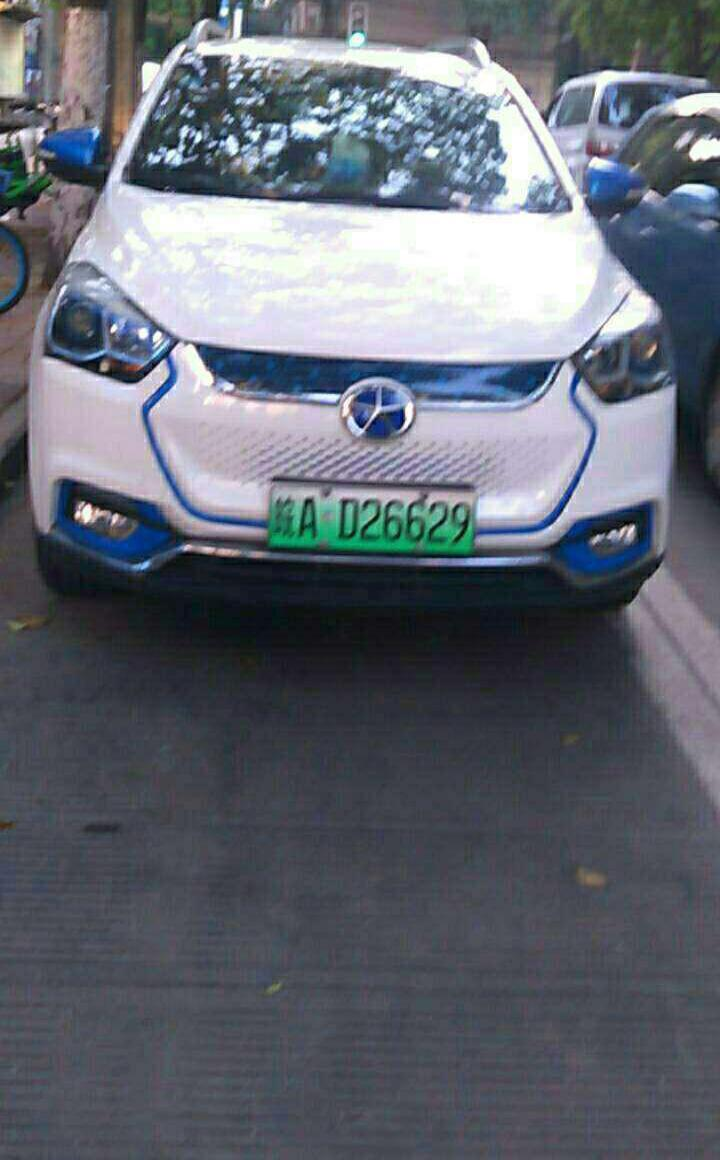car_id: (271, 477, 475, 549)
